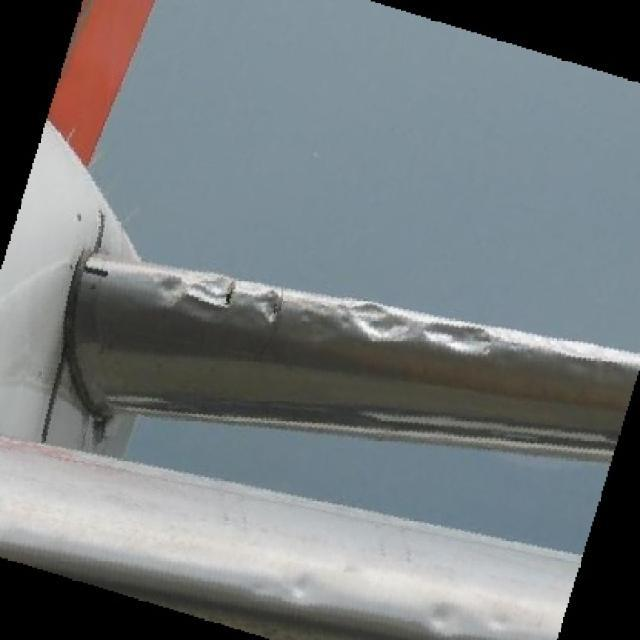dent: (420, 318, 497, 364), (346, 298, 412, 349), (190, 273, 238, 324), (250, 287, 284, 333), (418, 595, 453, 637), (160, 272, 185, 306), (289, 573, 315, 601)
